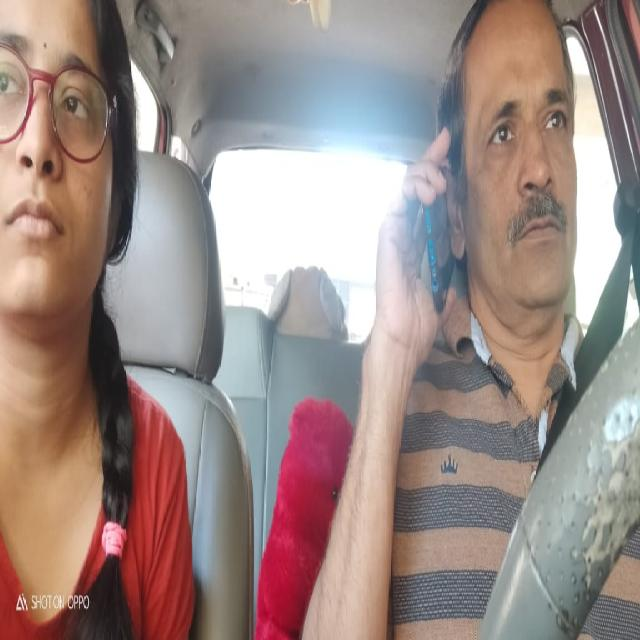mobile: (418, 175, 462, 321)
person: (0, 0, 135, 356), (442, 0, 580, 317)
